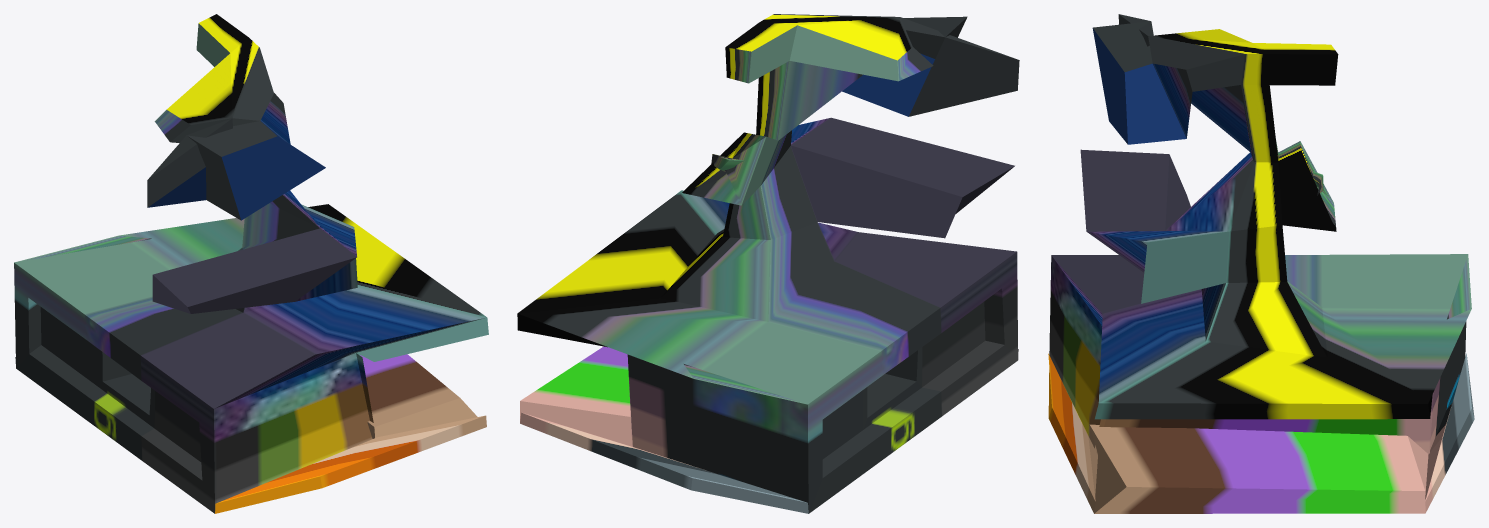
The model's file is strange.fbx.
3 views of the same model, side by side, from view 1: azimuth 30°, elevation 25°; view 2: azimuth 150°, elevation 25°; view 3: azimuth 270°, elevation 25° (orthographic). The views are drawn at different scales.
Visible parts, largest first — view 1: Cube; view 2: Cube; view 3: Cube.
Part boxes in pixels (x1,y1,x2,y2): Cube: (14,14,488,513); Cube: (517,14,1019,513); Cube: (1048,14,1474,513).
Size of the model in its own units: 1226 by 1295 by 1310.
